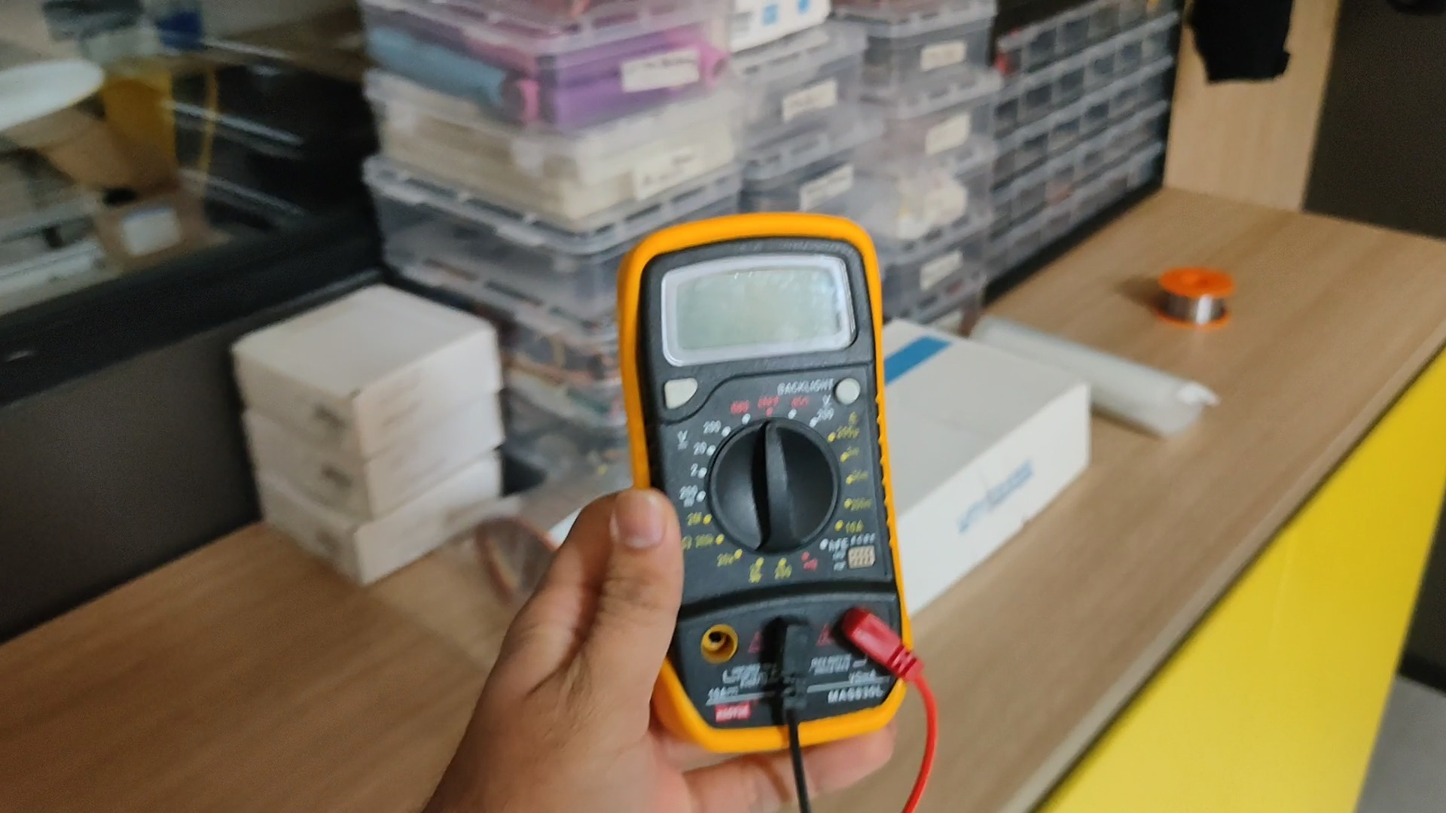multimeter: (617, 213, 911, 786)
